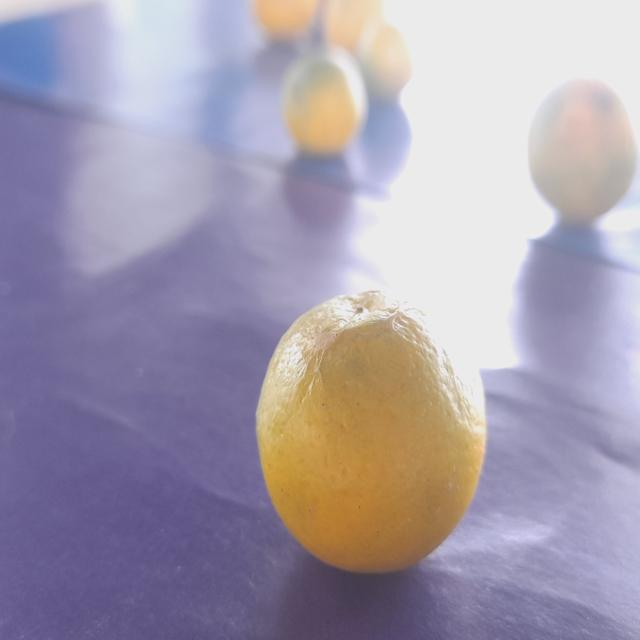greening: (251, 275, 509, 591)
